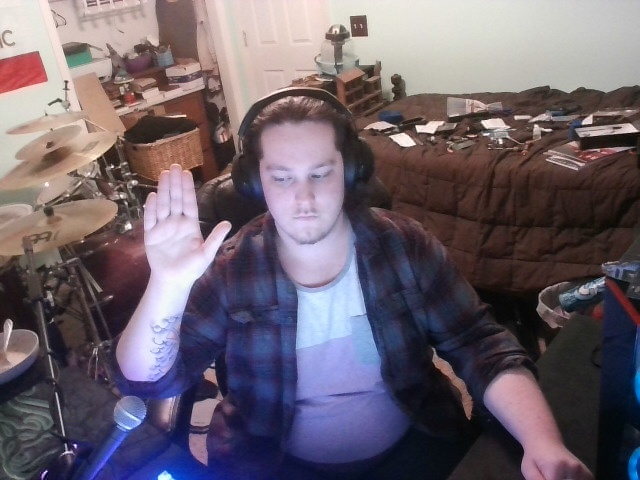hello: (112, 148, 241, 300)
